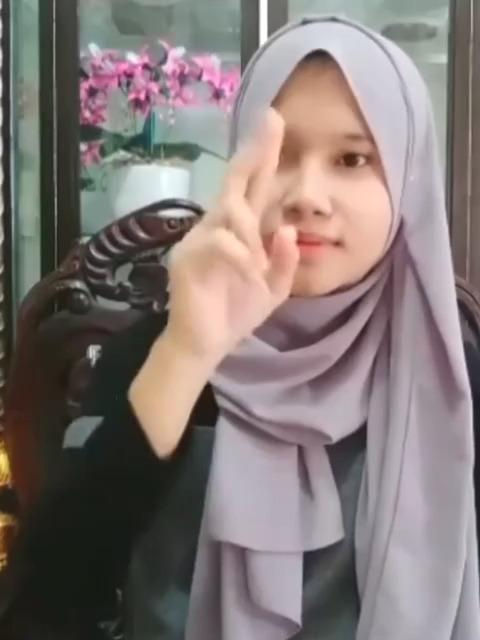U: (170, 101, 304, 349)
